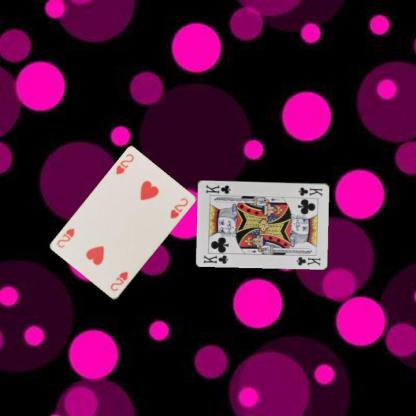2h: (113, 152, 135, 176), (108, 270, 129, 292)
Kc: (296, 184, 324, 197), (201, 252, 229, 265)
